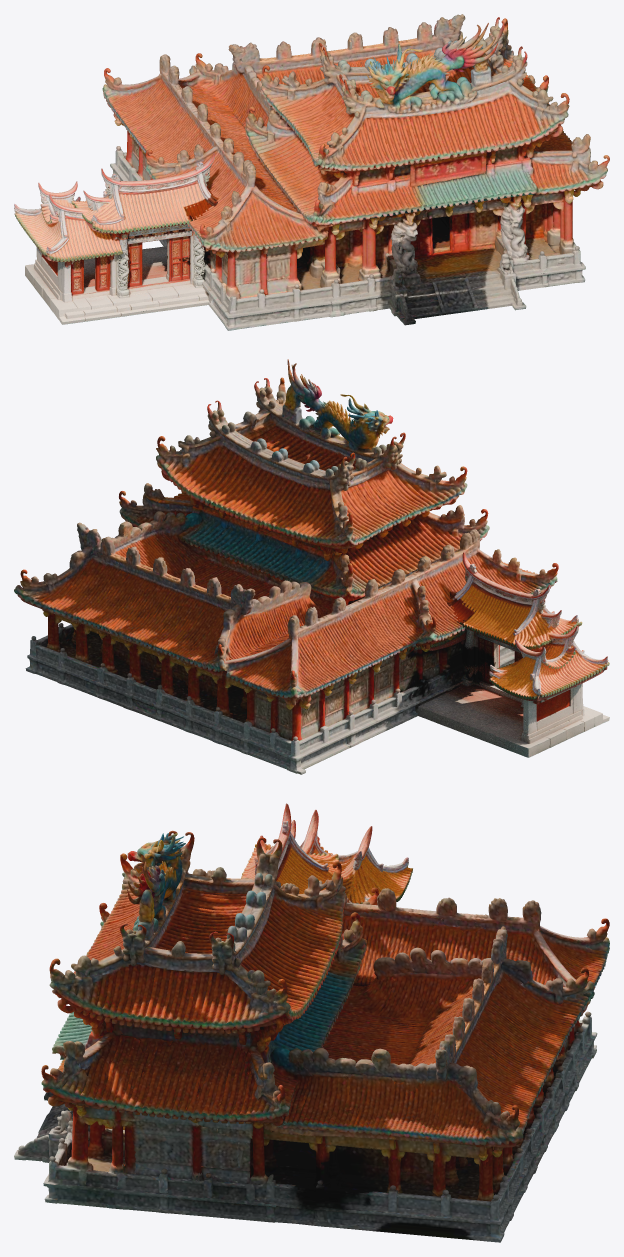
Rendered from architecture-solid.glb.
The picture shows the model from 3 angles, top to bottom: view 1: azimuth 30°, elevation 25°; view 2: azimuth 150°, elevation 25°; view 3: azimuth 270°, elevation 25°; orthographic projection. The views are drawn at different scales.
Visible parts, largest first — view 1: HeroTemple_model, ShoreGate_model; view 2: HeroTemple_model, ShoreGate_model; view 3: HeroTemple_model, ShoreGate_model.
Boxes of the visible parts, <box> form: HeroTemple_model: <box>102,14,609,330</box>; ShoreGate_model: <box>14,153,218,324</box>; HeroTemple_model: <box>14,359,558,774</box>; ShoreGate_model: <box>407,551,609,757</box>; HeroTemple_model: <box>14,830,609,1242</box>; ShoreGate_model: <box>241,803,412,903</box>.
Bounding box in the file's own units: 31.63 × 14.42 × 25.81.
2 materials, 2 textured.
